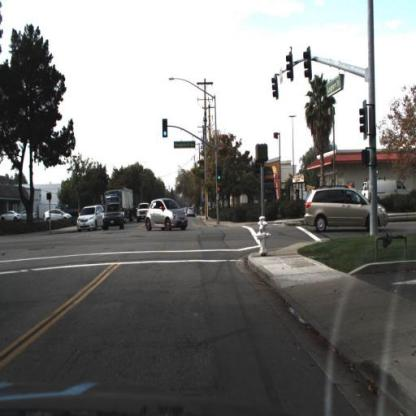car: (304, 188, 390, 241), (361, 175, 413, 207), (146, 198, 189, 235), (77, 204, 102, 237), (102, 203, 125, 233), (44, 205, 74, 225), (44, 207, 71, 225), (135, 202, 149, 227)
trafficLight-Green: (163, 119, 170, 139), (217, 166, 223, 188)
truck: (106, 190, 136, 211)
